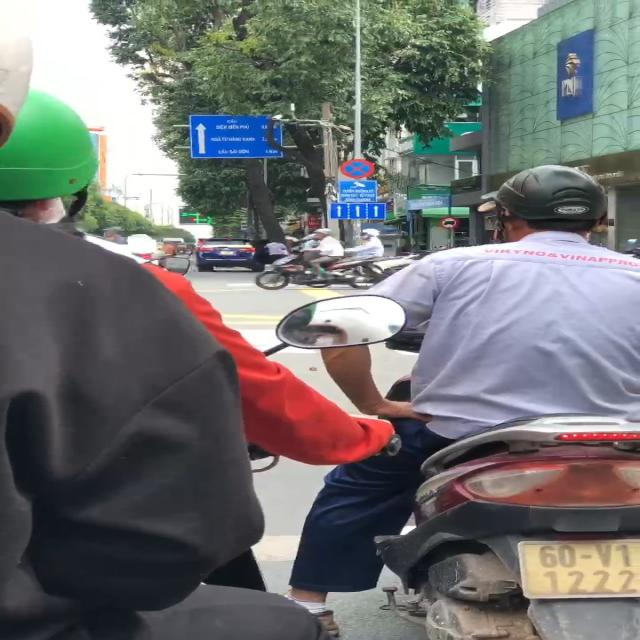Bien bao cam dung xe va do xe: (338, 158, 377, 180)
